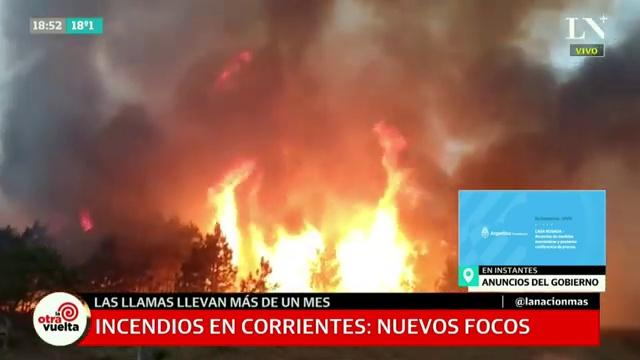fire: (347, 230, 409, 290), (265, 232, 315, 291), (212, 191, 243, 242)
smoke: (15, 72, 155, 213)
